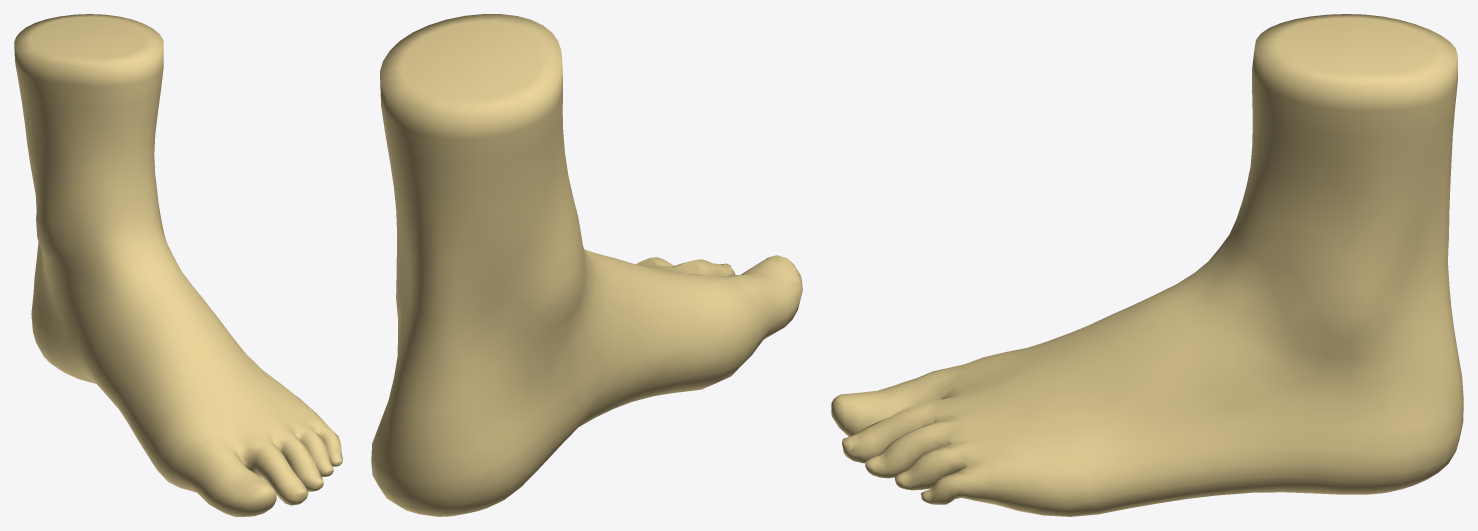
Rendered from LeftFoot.glb.
3 renders of one model, left to right at view 1: azimuth 30°, elevation 25°; view 2: azimuth 150°, elevation 25°; view 3: azimuth 270°, elevation 25°, orthographic. The views are drawn at different scales.
Parts seen in each view (by area): view 1: Foot - Realistic; view 2: Foot - Realistic; view 3: Foot - Realistic.
Part boxes in pixels (x1,y1,x2,y2): Foot - Realistic: [14, 14, 342, 516]; Foot - Realistic: [371, 14, 802, 516]; Foot - Realistic: [831, 14, 1463, 516].
Bounding box in the file's own units: 0.0912 × 0.1781 × 0.2359.
